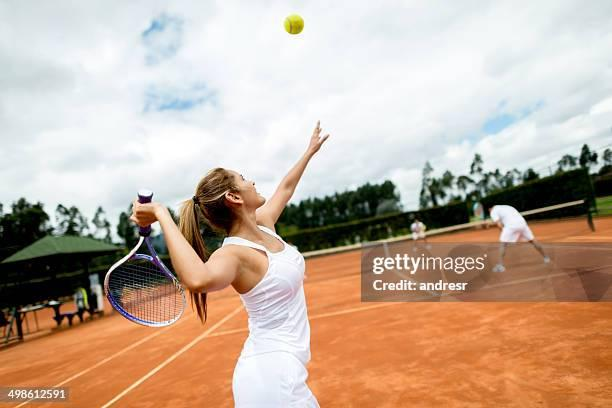ball_tennis: (284, 14, 304, 34)
